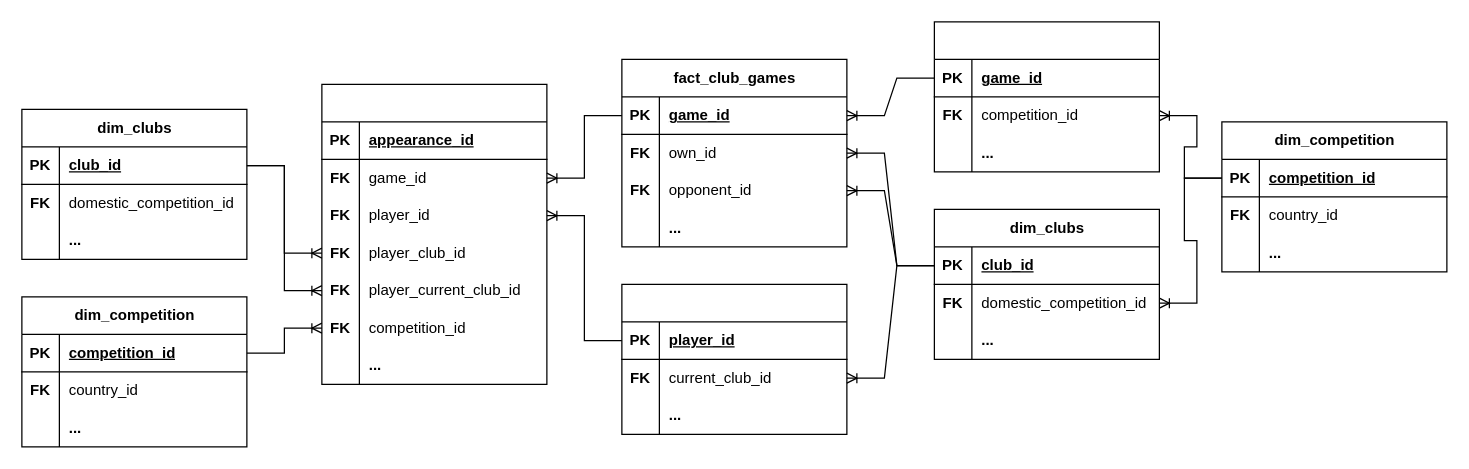
The diagram is 1469 pixels wide and 469 high, and some of its shapes have lost their labels. Here are the shapes that lost their labels. From the top down, the box of each, then its label:
(933, 21, 1159, 172): dim_game_info
(321, 83, 547, 384): fact_appearances
(621, 283, 847, 434): dim_players
